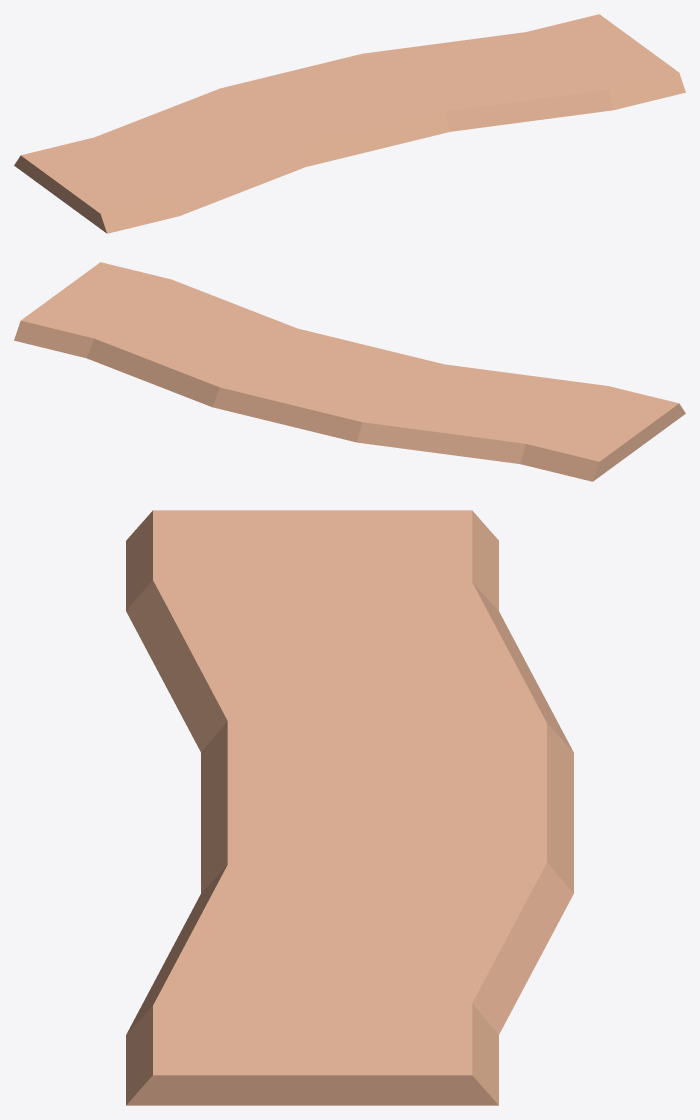
File: Pathlvl1.fbx
The picture shows the model from 3 angles, top to bottom: view 1: azimuth 30°, elevation 25°; view 2: azimuth 150°, elevation 25°; view 3: azimuth 270°, elevation 25°; orthographic projection. The views are drawn at different scales.
Parts seen in each view (by area): view 1: path_straight; view 2: path_straight; view 3: path_straight.
Boxes of the visible parts, x1=… form: path_straight: x1=14, y1=14, x2=685, y2=233; path_straight: x1=14, y1=262, x2=685, y2=481; path_straight: x1=126, y1=510, x2=573, y2=1105.
Size of the model in its own units: 100 by 2.5 by 33.5.
